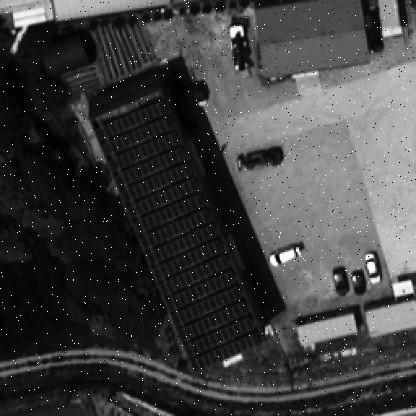solar-pv-panel: (94, 100, 261, 371)
